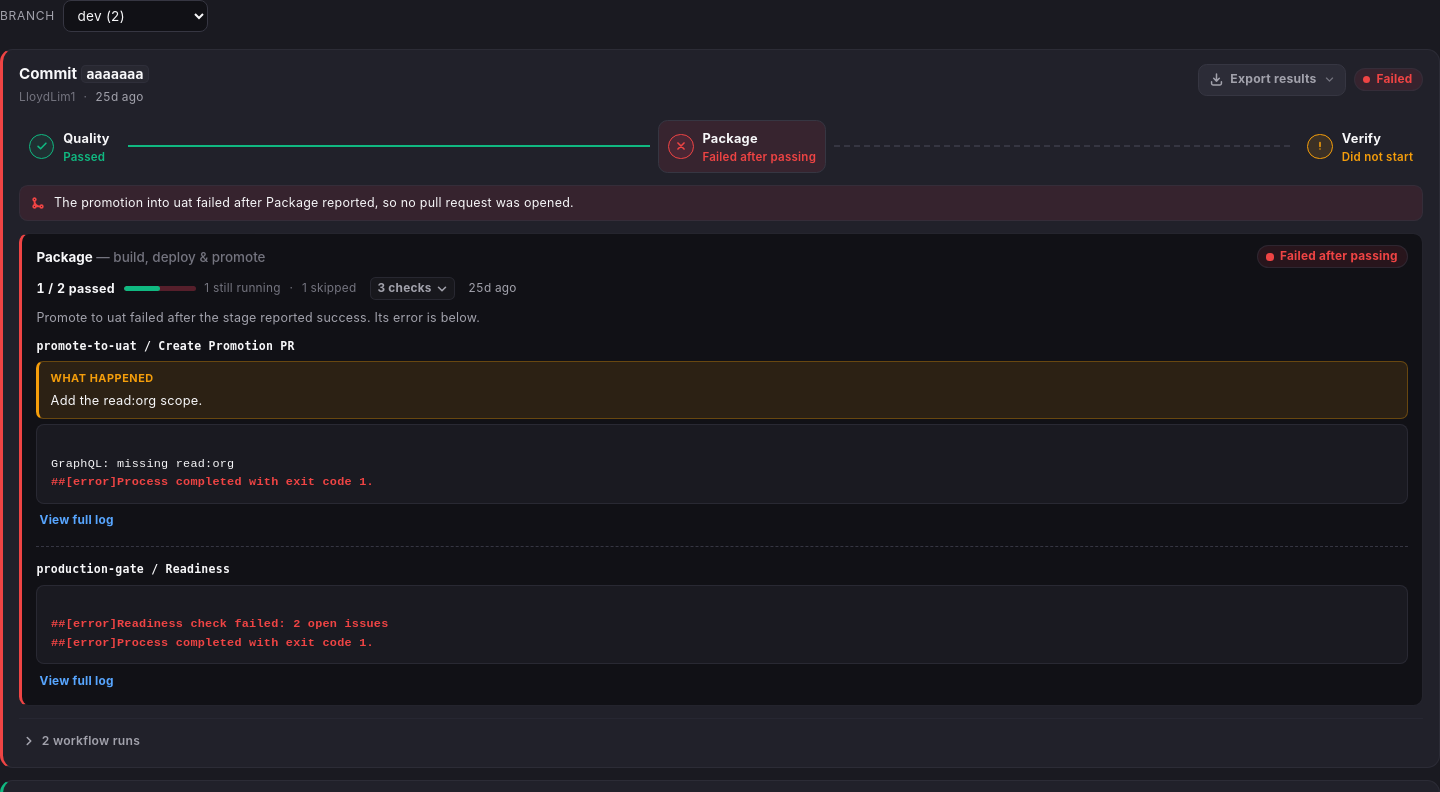
PipelineRunsTab commit card › previews each failed job's error inline, from one failure-log read per run
Click the button "2 workflow runs". click: click(83, 741)
box: [19, 726, 147, 756]
(page scrolled)
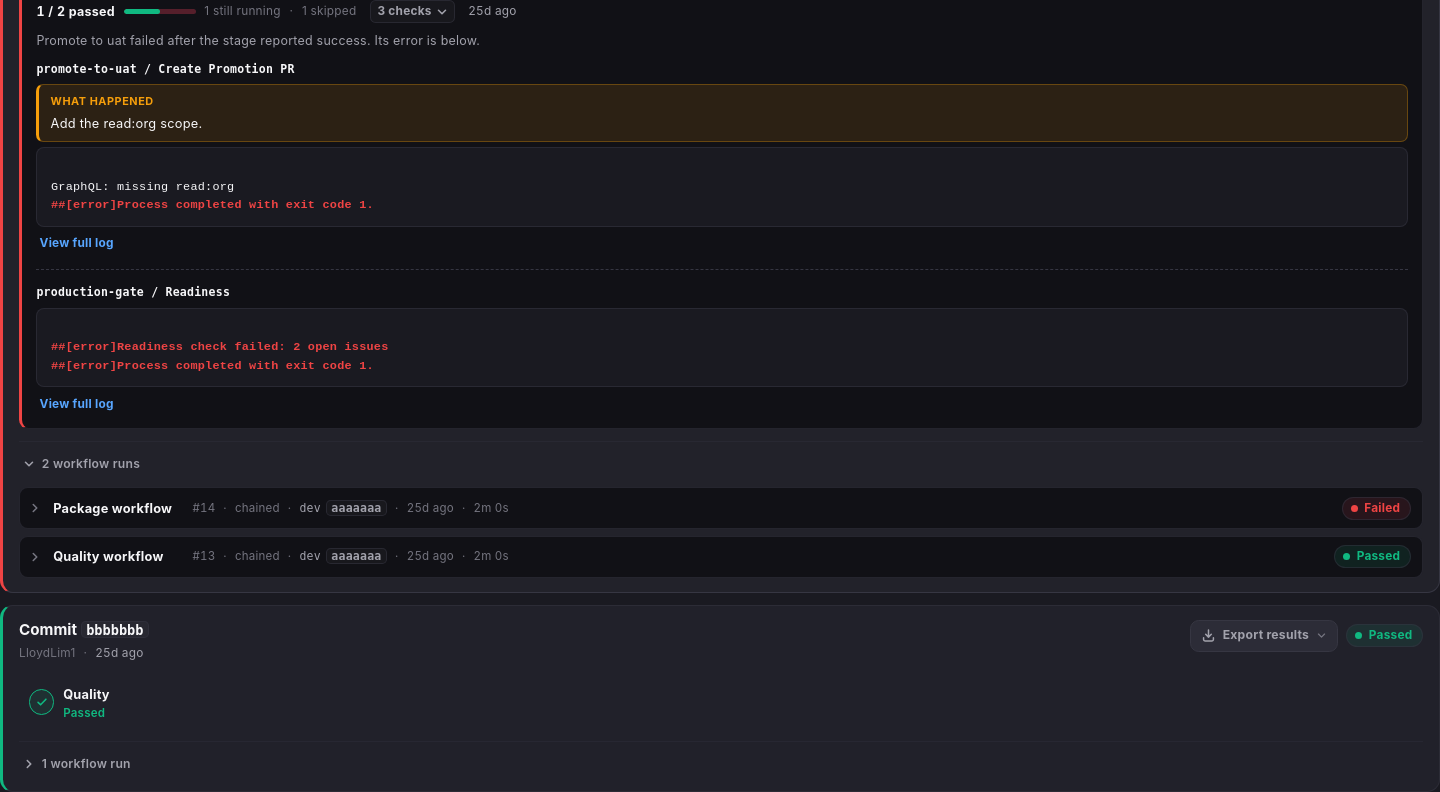
Click the button that starts with "Package workflow". click: click(113, 508)
box: [20, 488, 1422, 528]
(page scrolled)
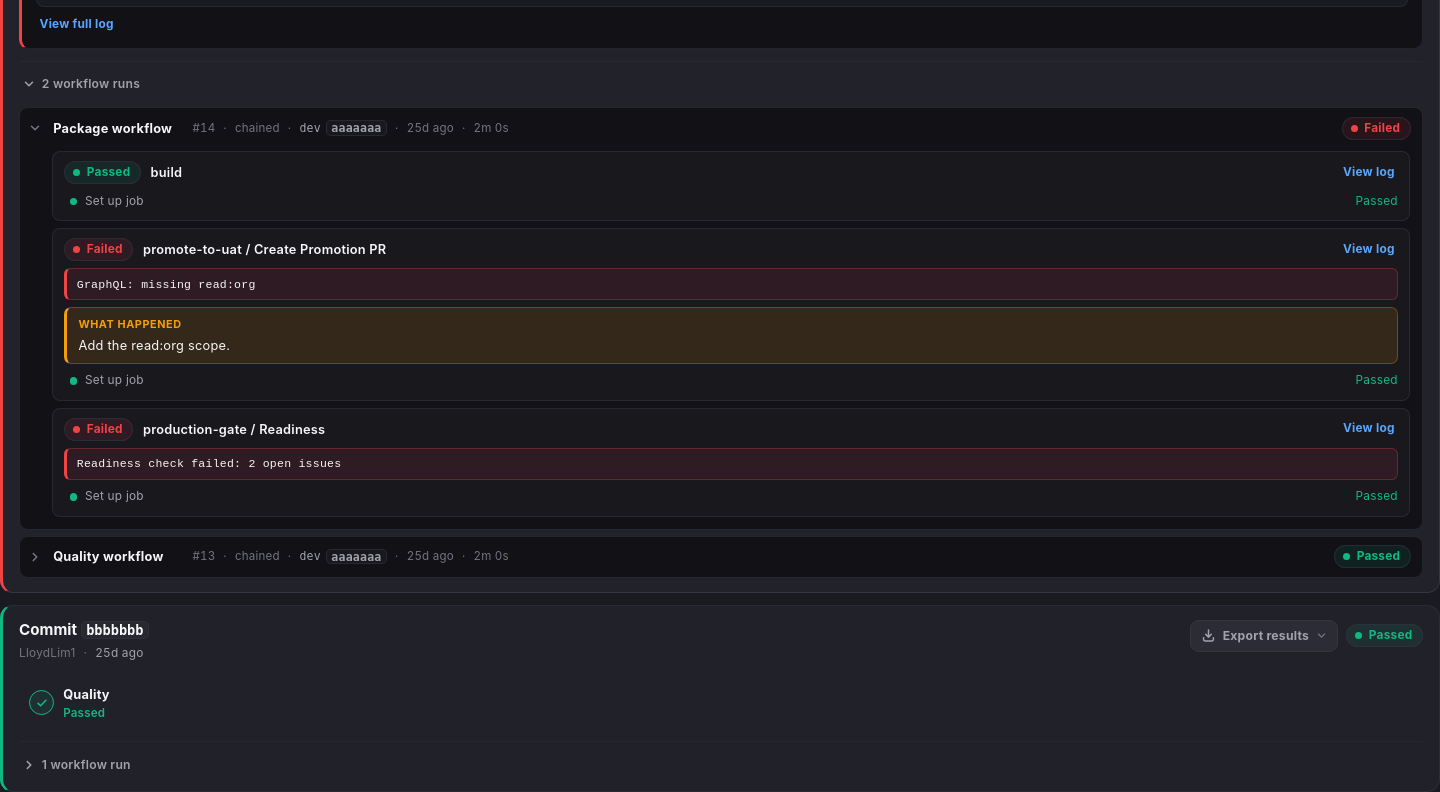
Expected: the element showing "GraphQL: missing read:org" is shown, [64, 268, 1398, 300]
Expected: the element showing "What happened Add the read:org scope." is shown, [64, 307, 1398, 364]
Expected: the element showing "Readiness check failed: 2 open issues" is shown, [64, 448, 1398, 480]
